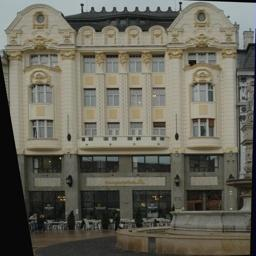building: (5, 0, 238, 225)
